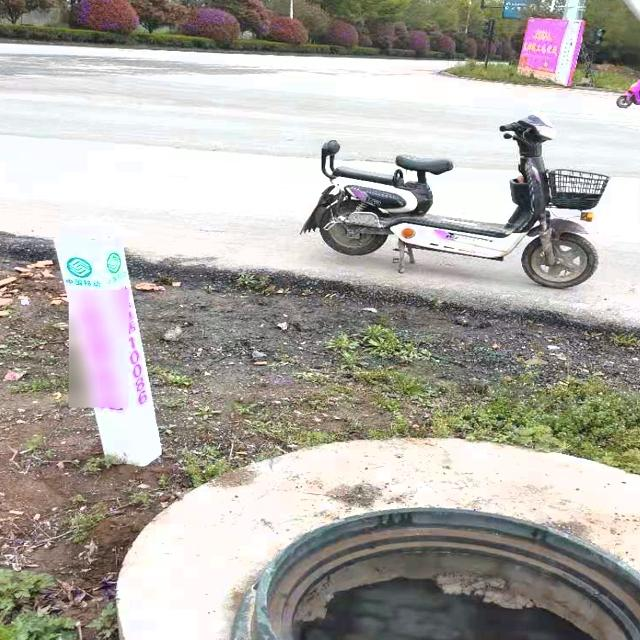lose: (227, 509, 640, 640)
